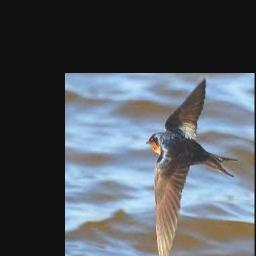Swallow: (146, 78, 238, 256)
